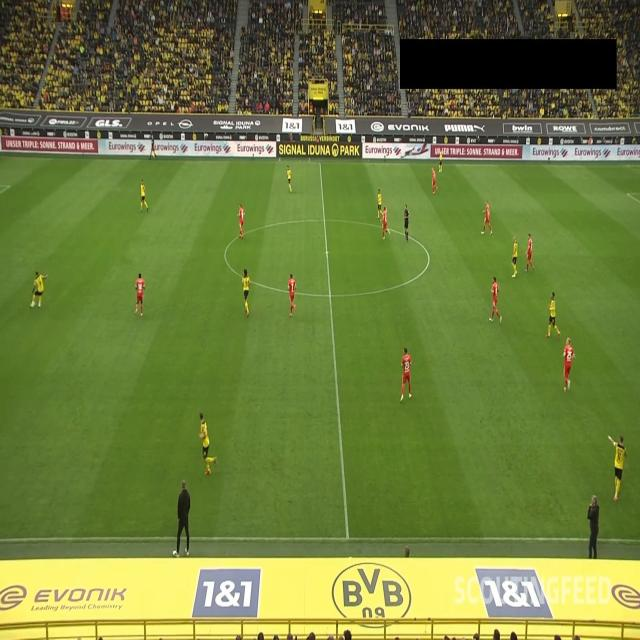ball: (31, 299, 36, 308)
